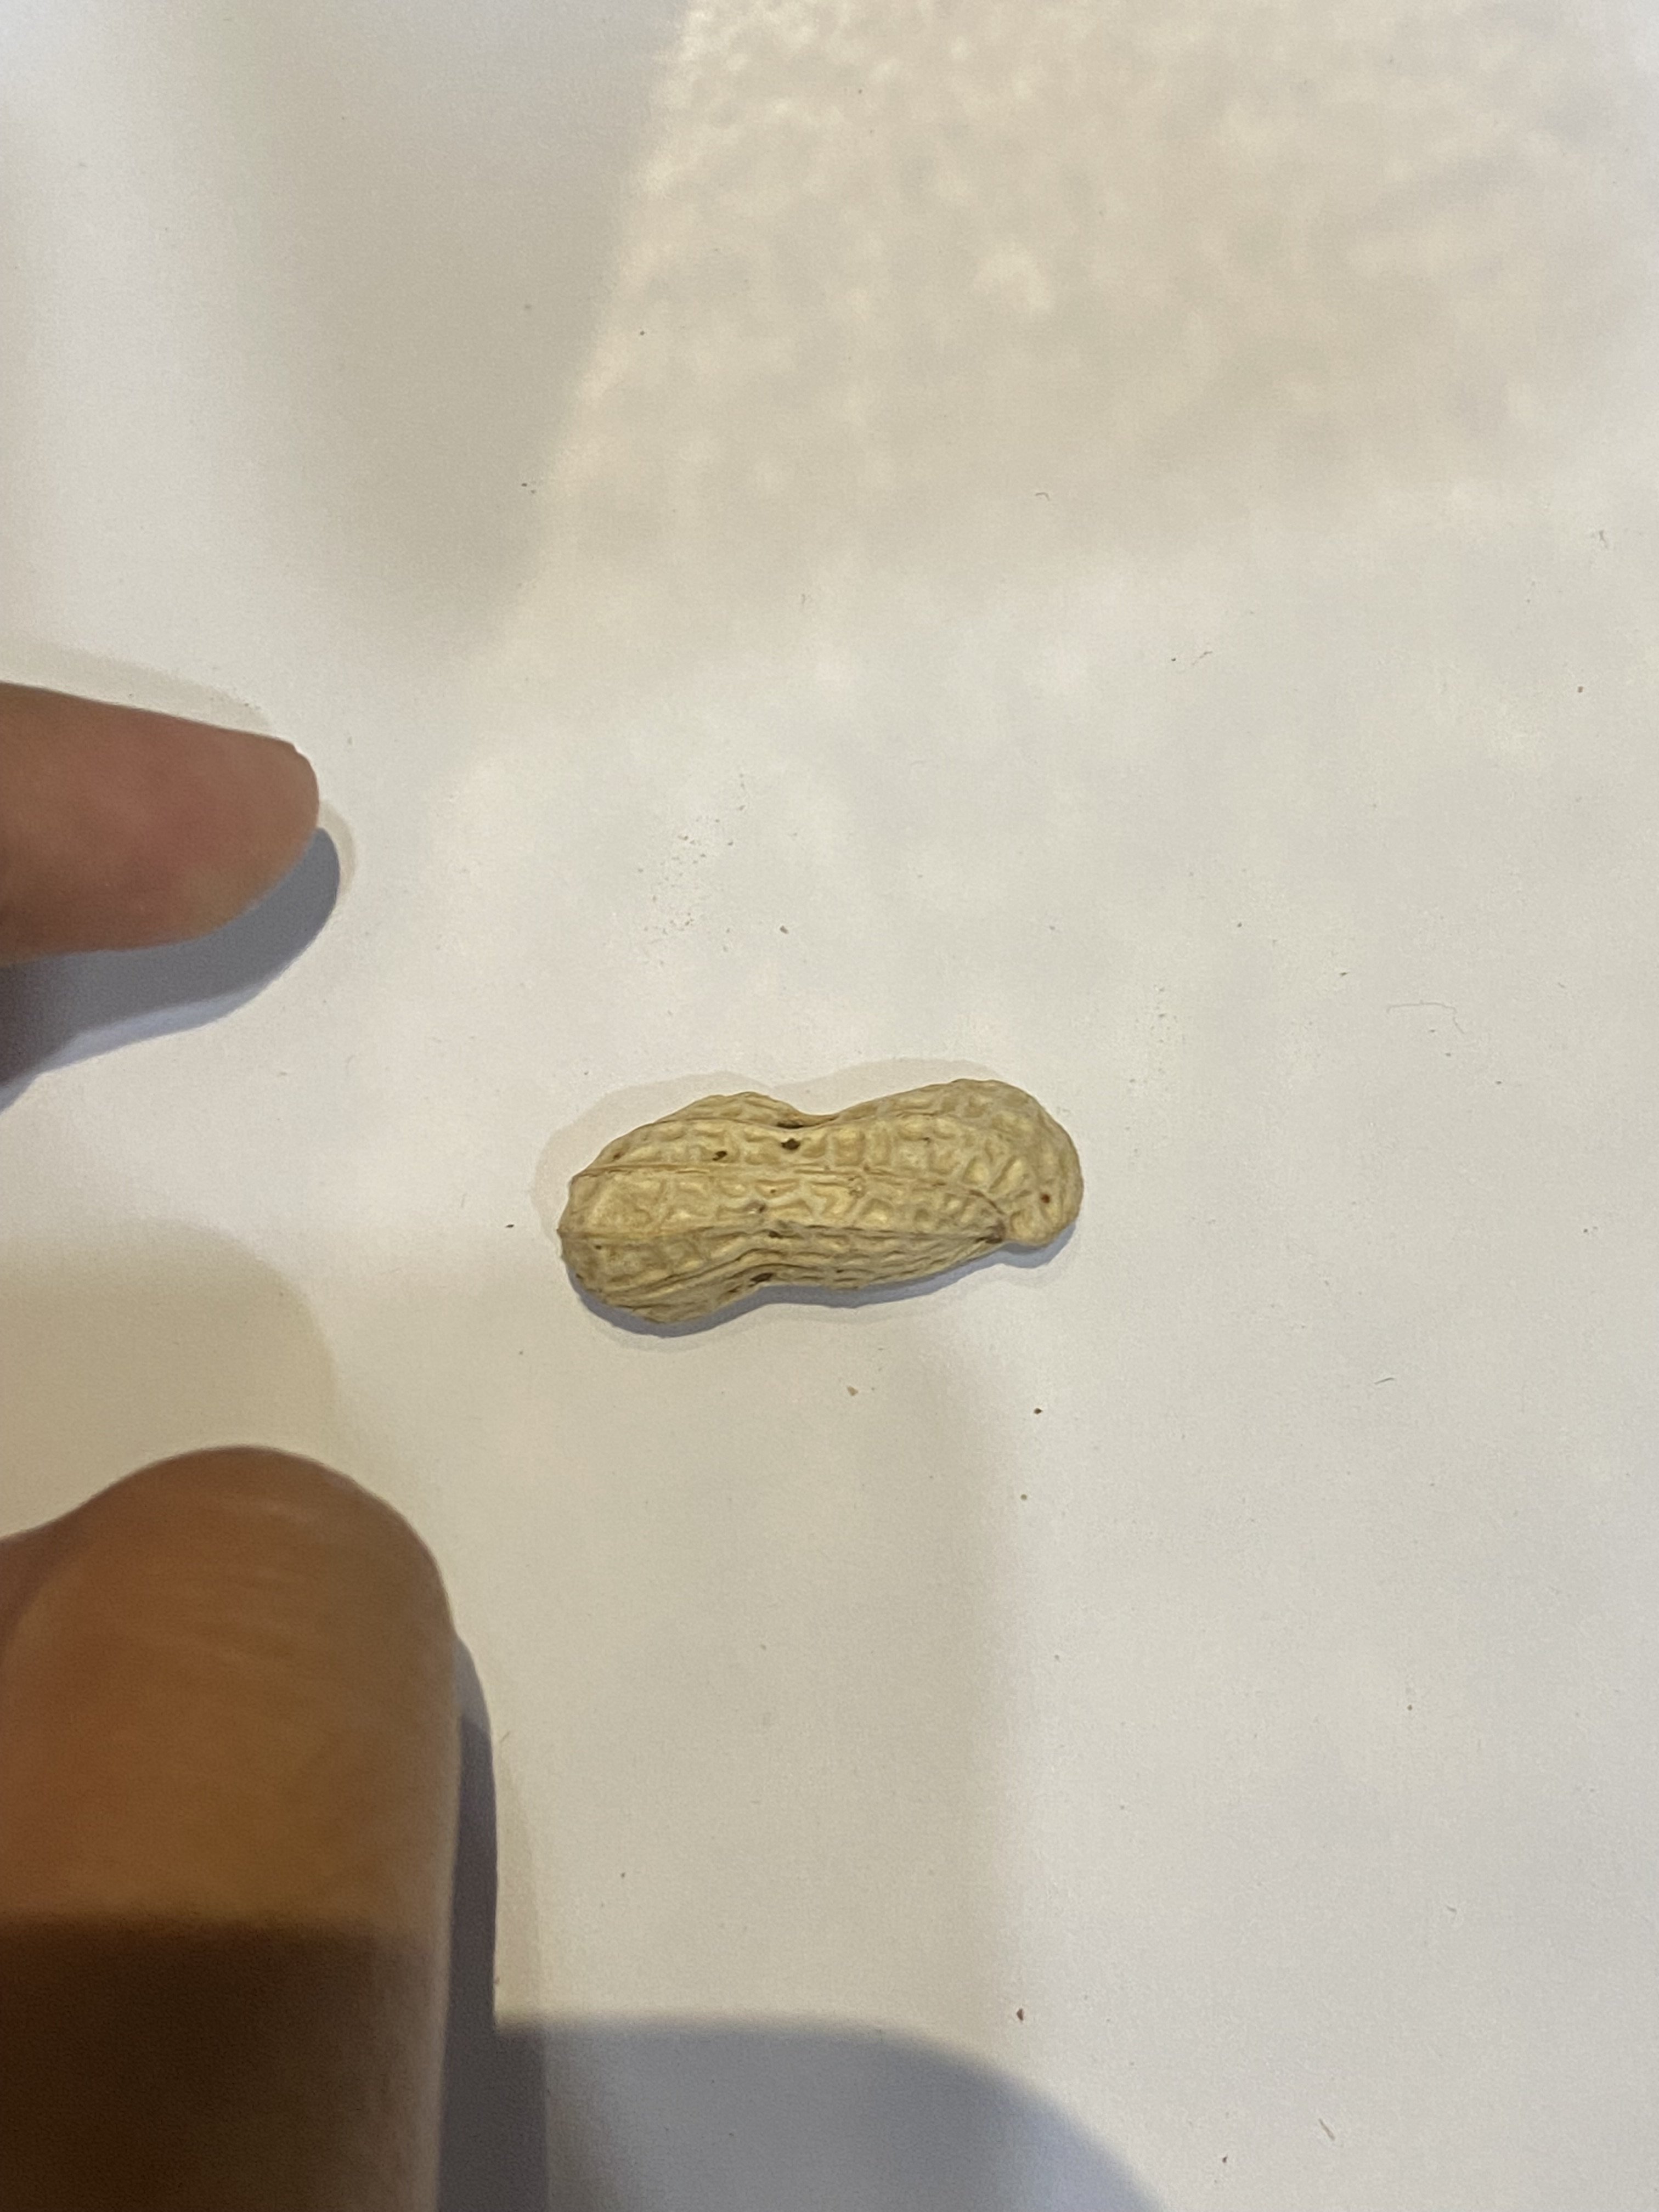kacang2: (516, 1071, 1087, 1332)
